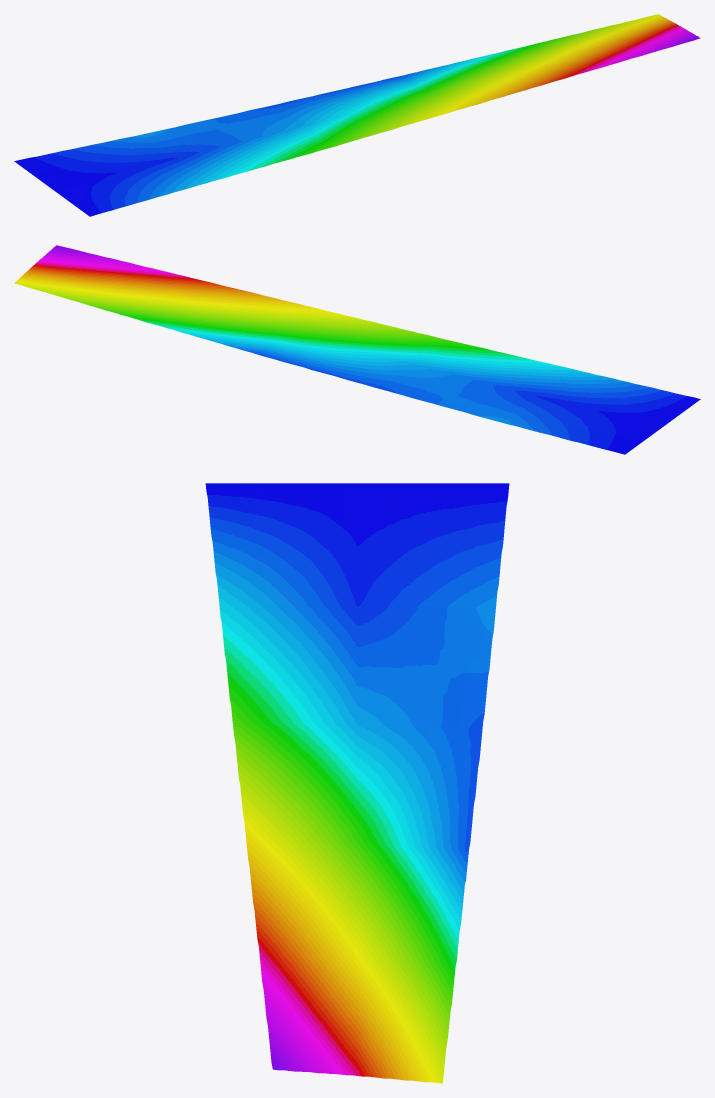
The picture shows the model from 3 angles, top to bottom: view 1: azimuth 30°, elevation 25°; view 2: azimuth 150°, elevation 25°; view 3: azimuth 270°, elevation 25°; orthographic projection. The views are drawn at different scales.
Parts seen in each view (by area): view 1: Elements; view 2: Elements; view 3: Elements.
Part boxes in pixels (box(x1,y1,x2,y2)): Elements: box(14, 14, 700, 216); Elements: box(14, 245, 700, 454); Elements: box(205, 483, 509, 1083).
Bounding box in the file's own units: 1 × 0.022 × 0.2096.
1 material, 1 textured.
